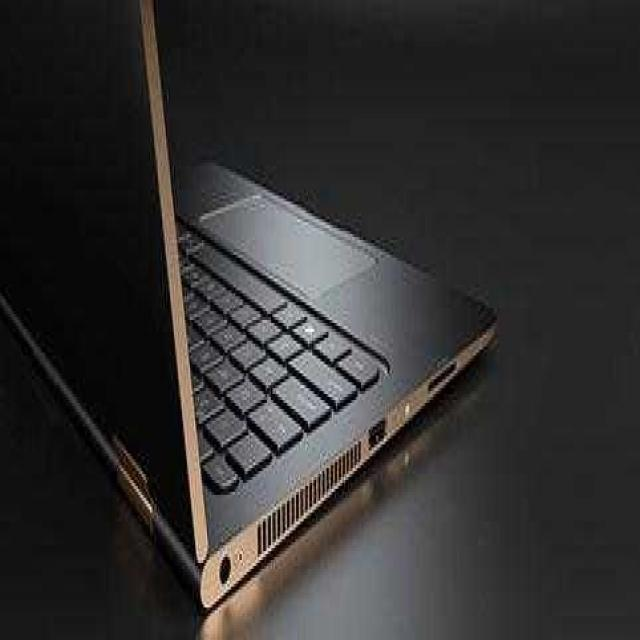laptop: (1, 4, 502, 586)
